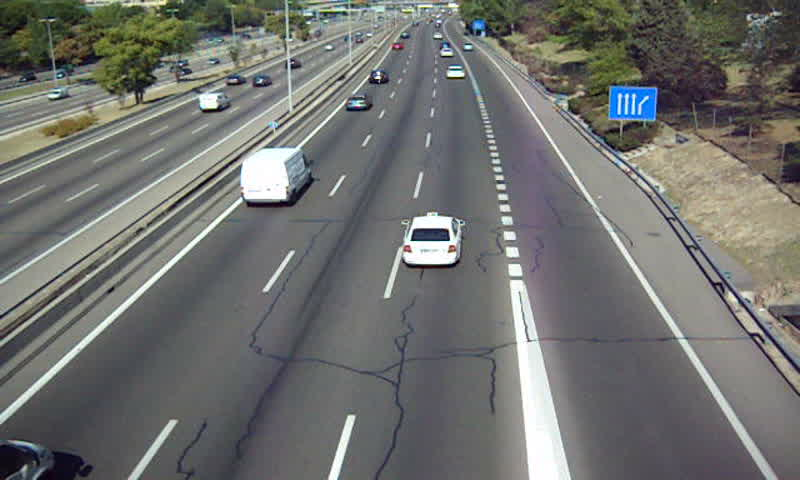car: (402, 215, 462, 266), (345, 93, 370, 114), (369, 69, 389, 86), (444, 65, 466, 80)
van: (240, 148, 310, 204)
